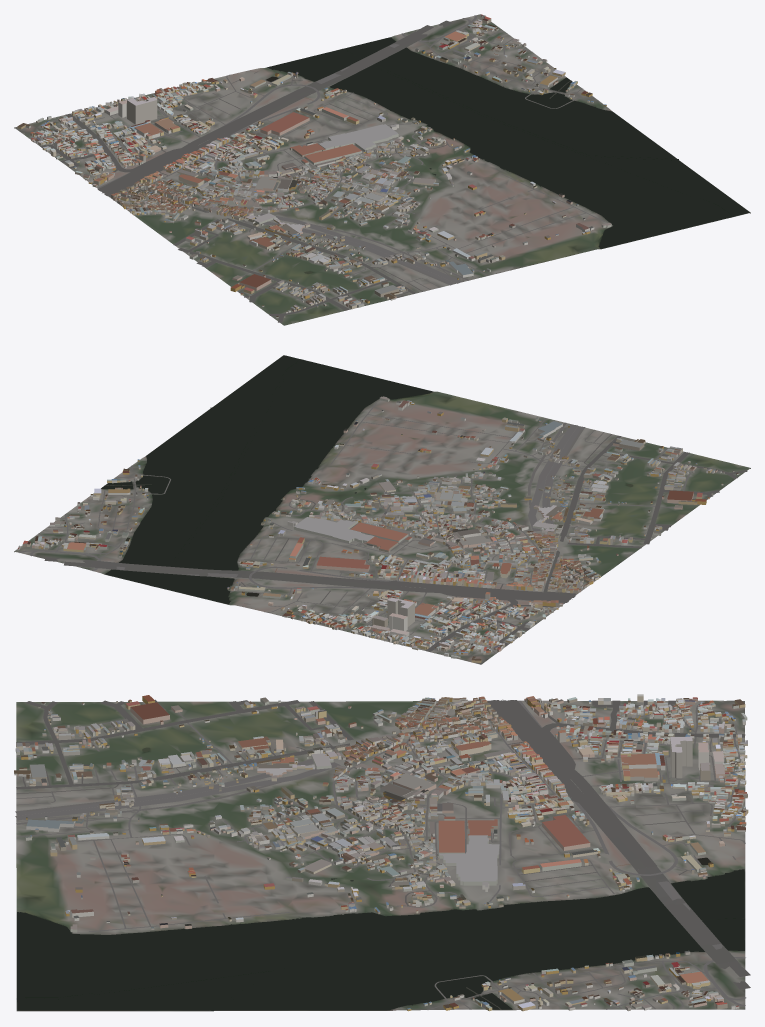
3 renders of one model, top to bottom at view 1: azimuth 30°, elevation 25°; view 2: azimuth 150°, elevation 25°; view 3: azimuth 270°, elevation 25°, orthographic. The views are drawn at different scales.
Parts seen in each view (by area): view 1: ground, buildings, water, roads; view 2: ground, buildings, water, roads; view 3: ground, buildings, water, roads.
Part boxes in pixels (bbox=[...]): ground: bbox=[14, 14, 750, 325]; buildings: bbox=[17, 14, 611, 318]; water: bbox=[266, 37, 749, 273]; roads: bbox=[28, 15, 604, 322]; ground: bbox=[14, 356, 750, 664]; buildings: bbox=[17, 396, 739, 662]; water: bbox=[101, 355, 633, 604]; roads: bbox=[19, 403, 747, 653]; ground: bbox=[16, 700, 745, 1011]; buildings: bbox=[14, 694, 748, 1011]; water: bbox=[16, 747, 745, 1010]; roads: bbox=[15, 699, 750, 1009].
Size of the model in its own units: 1418 by 62.95 by 1416.
